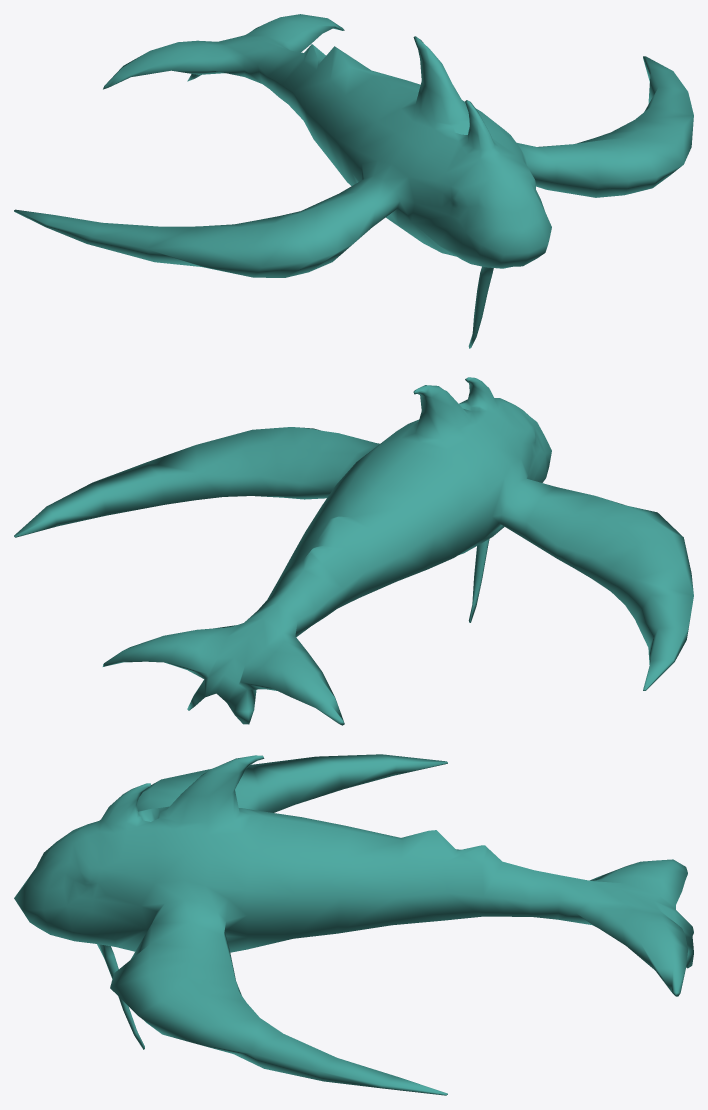
File: Whale.fbx
The picture shows the model from 3 angles, top to bottom: view 1: azimuth 30°, elevation 25°; view 2: azimuth 150°, elevation 25°; view 3: azimuth 270°, elevation 25°; orthographic projection. The views are drawn at different scales.
Parts seen in each view (by area): view 1: BSurfaceMesh.001; view 2: BSurfaceMesh.001; view 3: BSurfaceMesh.001.
Part boxes in pixels (box(x1,y1,x2,y2)): BSurfaceMesh.001: box(14, 14, 693, 348); BSurfaceMesh.001: box(14, 377, 693, 725); BSurfaceMesh.001: box(14, 754, 693, 1095).
Bounding box in the file's own units: 606 × 250 × 523.
